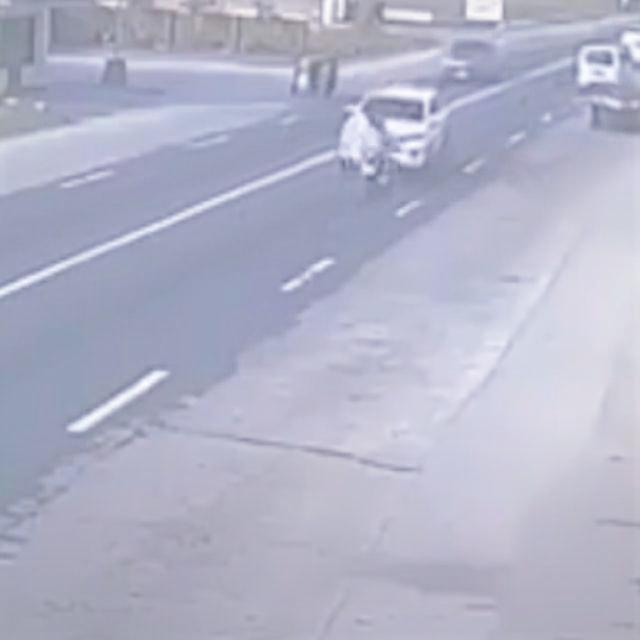Car: (341, 80, 456, 171)
Minor Accident: (330, 70, 445, 194)
Motor: (338, 90, 400, 200)
